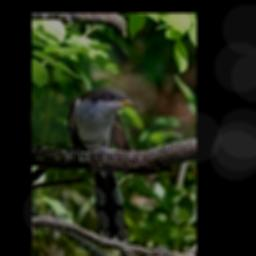Cuckoo: (68, 85, 139, 240)
